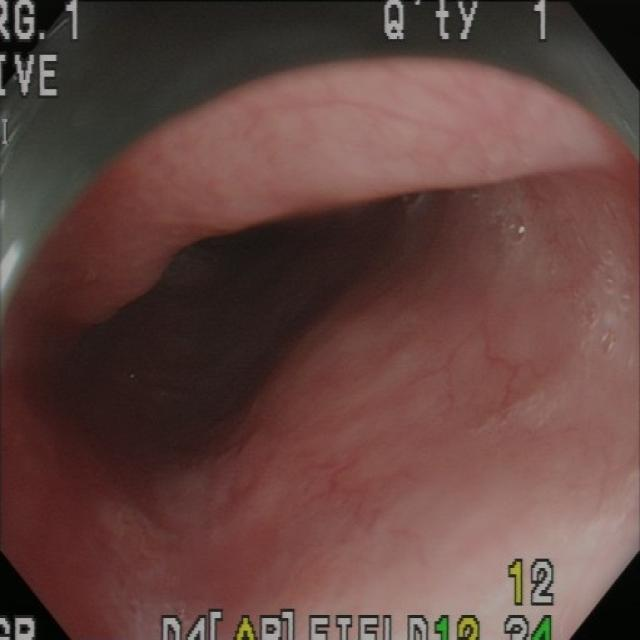E: (78, 169, 446, 499)
J: (308, 482, 623, 607), (108, 502, 178, 603), (473, 389, 565, 444)
S: (160, 608, 483, 640), (383, 3, 558, 45), (3, 3, 83, 45), (3, 50, 63, 101), (507, 558, 556, 608), (506, 614, 556, 640), (2, 614, 39, 640)
T: (570, 236, 640, 369), (462, 188, 544, 263)
